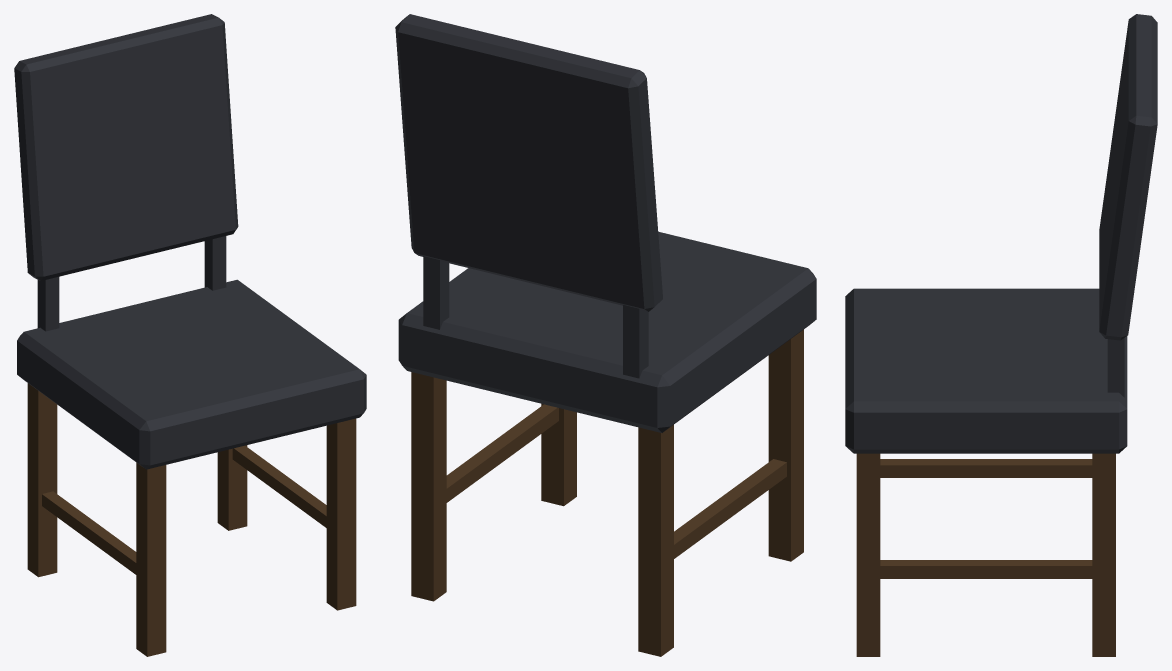
The model's file is office-chair-08.glb.
3 views of the same model, side by side, from view 1: azimuth 30°, elevation 25°; view 2: azimuth 150°, elevation 25°; view 3: azimuth 270°, elevation 25° (orthographic). The views are drawn at different scales.
Parts seen in each view (by area): view 1: office_chair_08; view 2: office_chair_08; view 3: office_chair_08.
Boxes of the visible parts, left/top/right/bottom form: office_chair_08: left=14, top=14, right=366, bottom=656; office_chair_08: left=395, top=14, right=816, bottom=656; office_chair_08: left=845, top=14, right=1157, bottom=656.
Size of the model in its own units: 0.498 by 1.04 by 0.5474.
